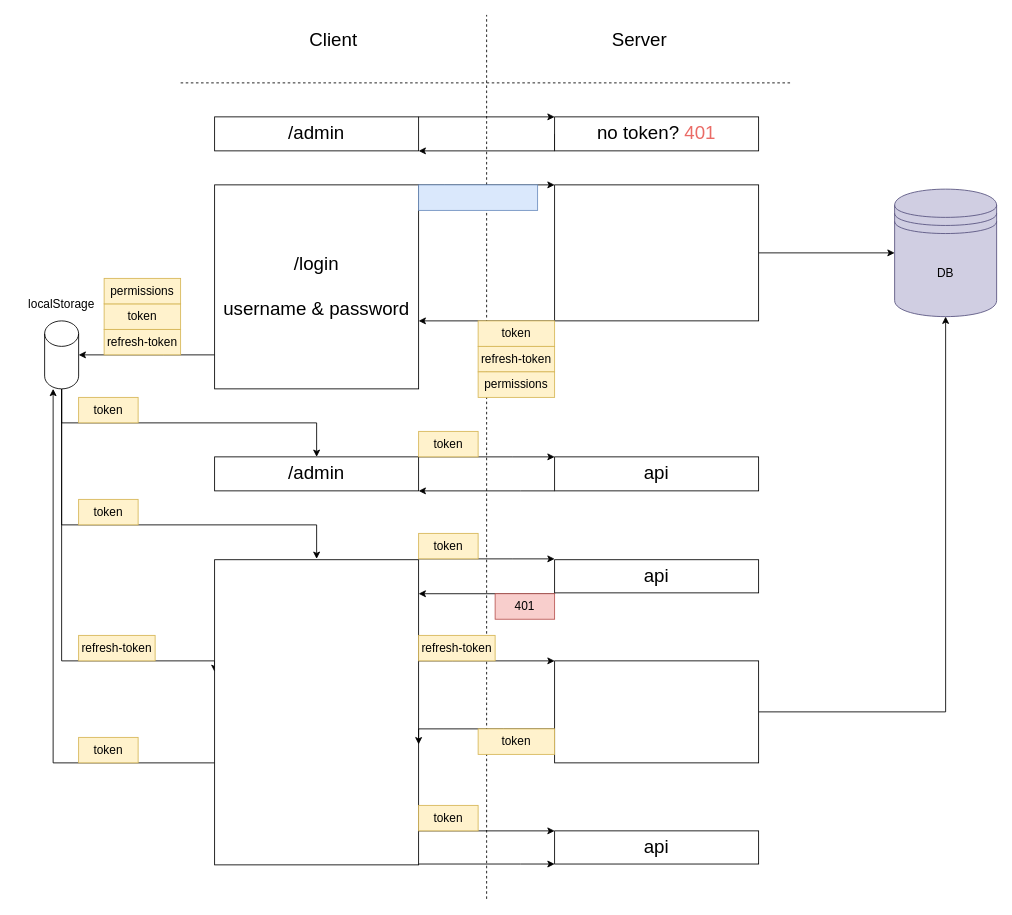
The diagram is 1012 pixels wide and 915 high, and some of its shapes have lost their labels. The shapes that lost their labels are listed below. From the top down, each one's centre as x and y in pixels, then its label:
At point (478, 197): "username&password".
At point (656, 252): "Authenticate API Logic".
At point (316, 712): "/profile".
At point (656, 711): "Authenticate API".
